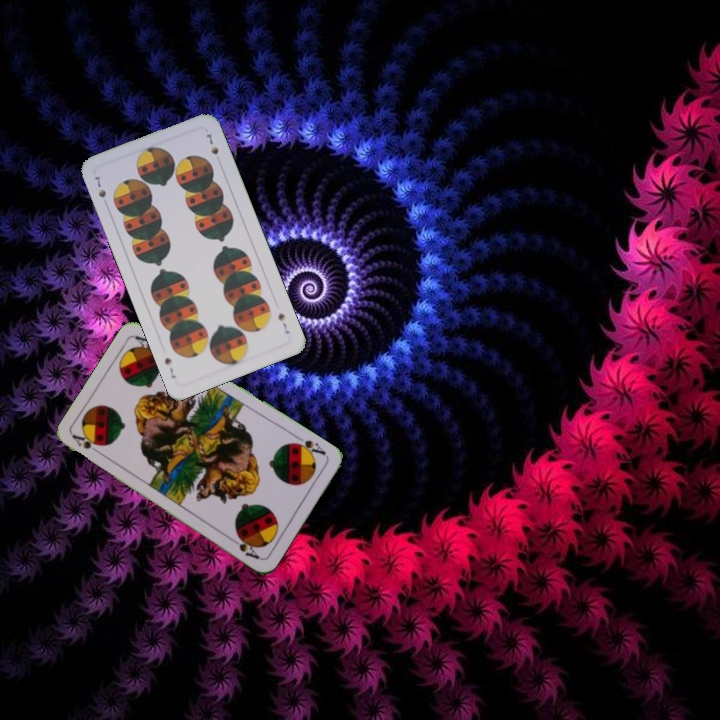S7: (90, 171, 109, 201), (274, 309, 292, 336)
SA: (68, 431, 105, 458), (289, 436, 328, 460)
